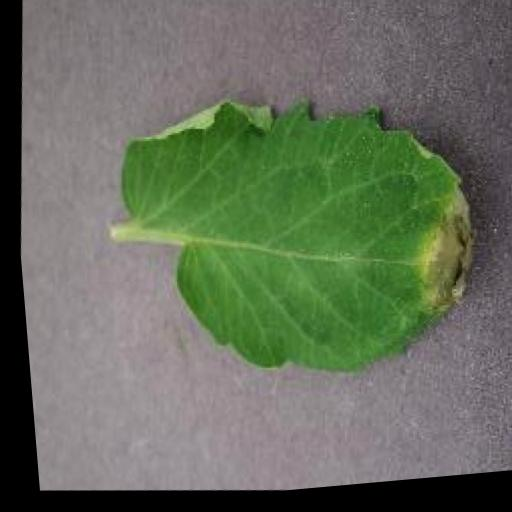Late Blight: (91, 77, 498, 409)
